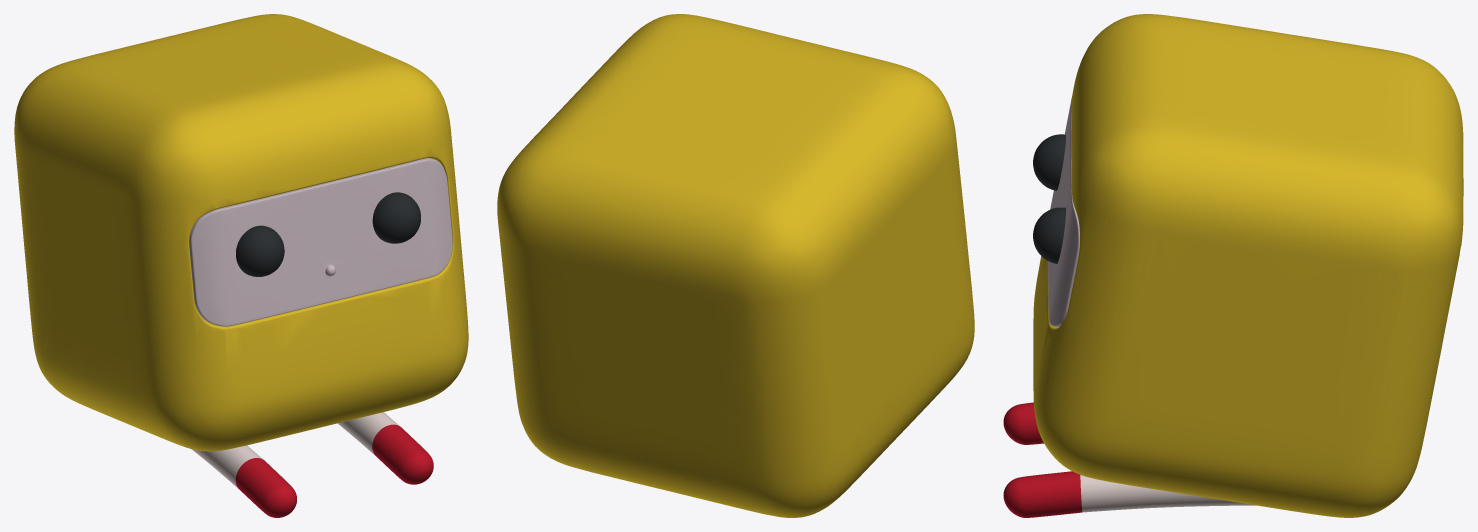
Rendered from testina-pupazzetto.glb.
3 views of the same model, side by side, from view 1: azimuth 30°, elevation 25°; view 2: azimuth 150°, elevation 25°; view 3: azimuth 270°, elevation 25° (orthographic). The views are drawn at different scales.
Visible parts, largest first — view 1: Testolona, Sfera, Occhi vinile, Capsula-Physical (×2), Capsula.2-Physical (×2); view 2: Testolona; view 3: Testolona, Capsula.2-Physical (×2), Sfera, Occhi vinile, Capsula-Physical.
Boxes of the visible parts, bbox=[...] form: Testolona: bbox=[14, 14, 468, 451]; Sfera: bbox=[189, 158, 452, 326]; Occhi vinile: bbox=[236, 192, 420, 276]; Capsula-Physical (×2): bbox=[191, 445, 296, 517]; Capsula.2-Physical (×2): bbox=[337, 412, 433, 484]; Testolona: bbox=[497, 14, 974, 517]; Testolona: bbox=[1033, 14, 1463, 517]; Capsula.2-Physical (×2): bbox=[1003, 471, 1255, 517]; Sfera: bbox=[1048, 96, 1079, 327]; Occhi vinile: bbox=[1033, 134, 1065, 263]; Capsula-Physical: bbox=[1003, 402, 1043, 444].
Bounding box in the file's own units: 2 × 2.28 × 2.33.
